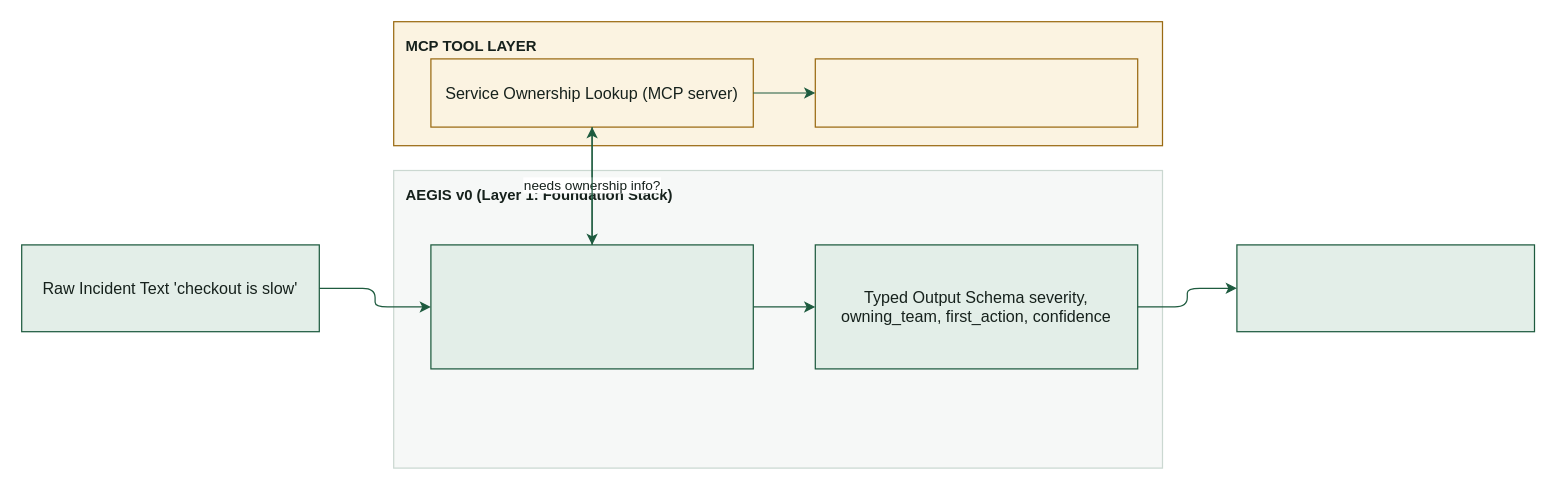
The diagram is 1556 pixels wide and 490 high, and some of its shapes have lost their labels. Each missing label, with the centre of its shape:
Agent Core LangGraph / Pydantic AI / Google ADK / Claude Agent SDK: the point at 591,306
Ownership Table JSON / SQLite: the point at 976,92
Structured Triage Result: the point at 1385,288
